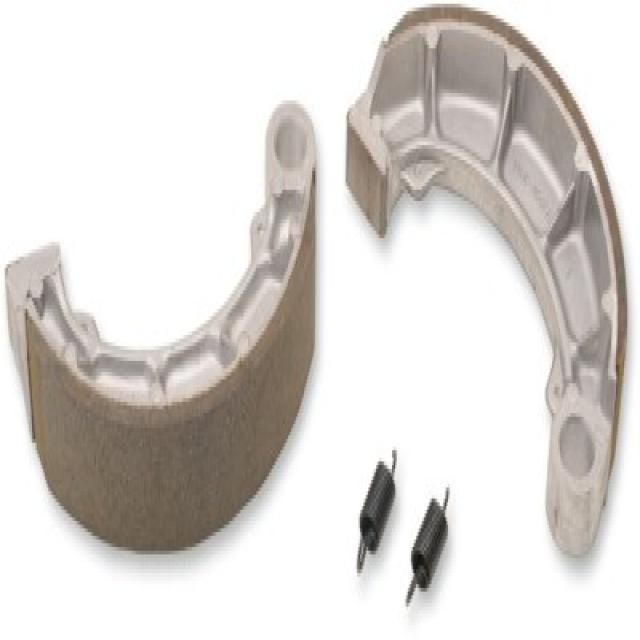brake_pad: (334, 3, 627, 584), (0, 87, 322, 560)
